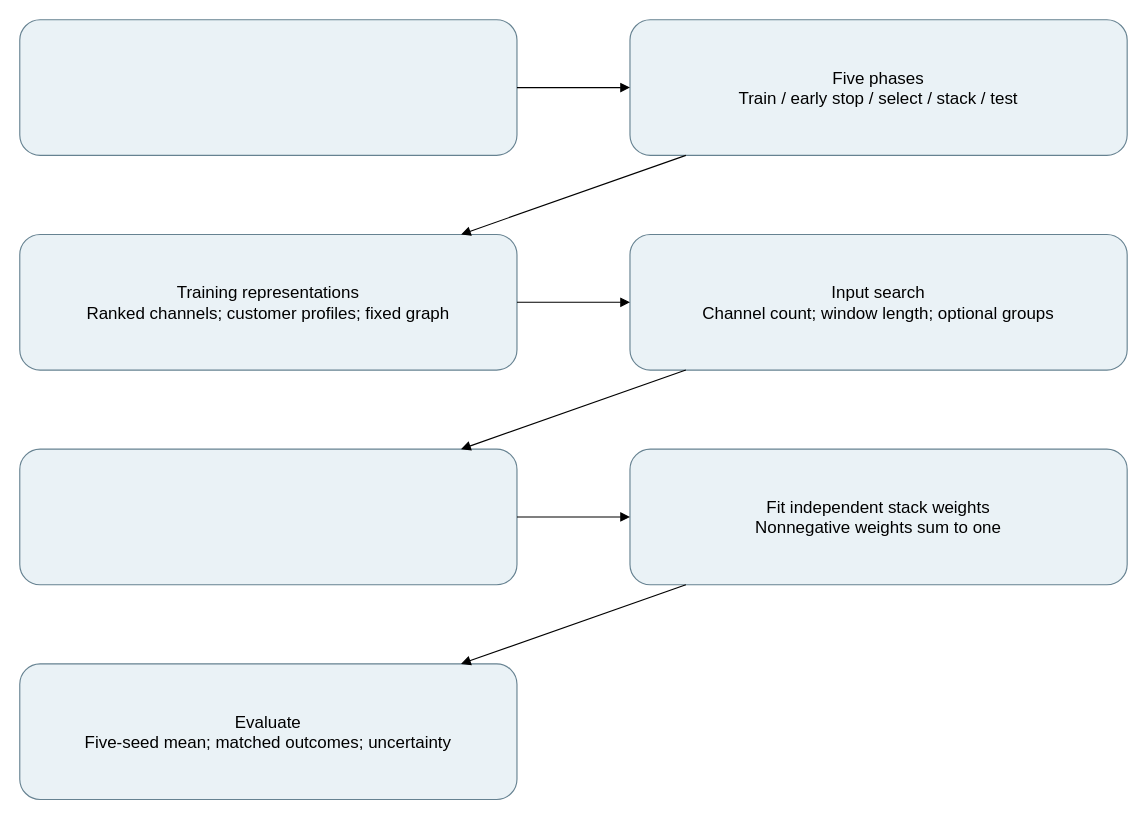
Image size: 1147x819. Some labels were removed from this diagram. Here are the shapes that lost their labels. From the top down, the centre of each, then its label:
the point at 268,87: Public purchases Positive records; known customer IDs
the point at 268,516: Model pool Encoder; LSTM; GRU; boosting; window mean
